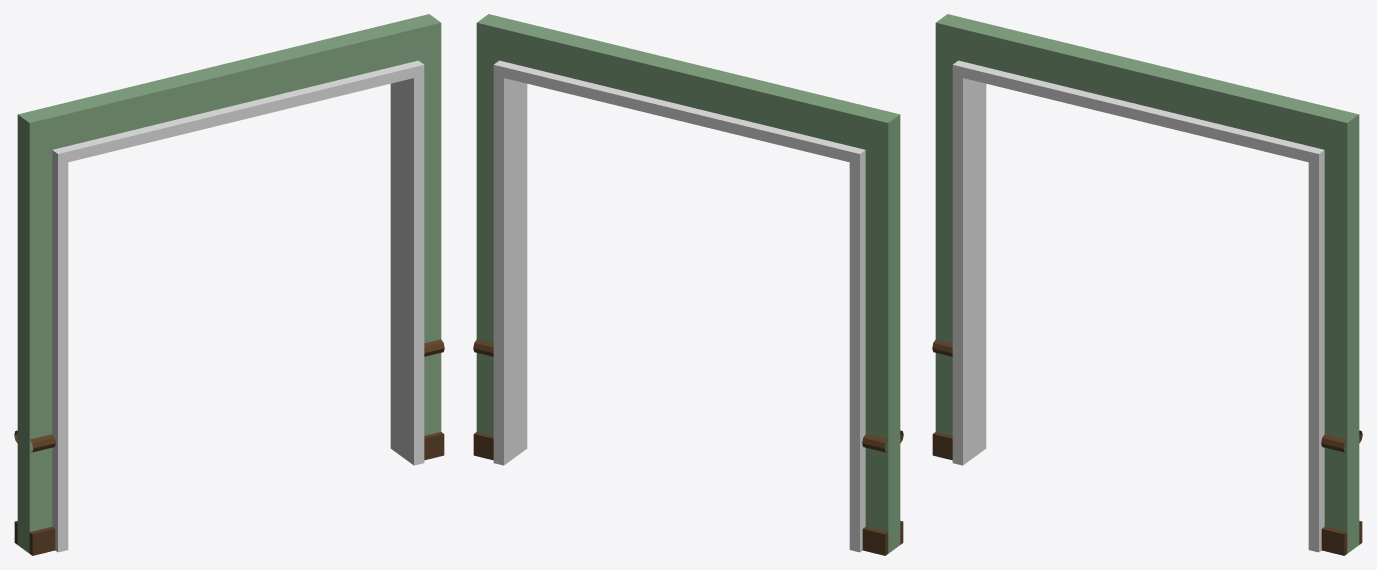
The model's file is h_wall_2_doorFrame2_4.fbx.
3 renders of one model, left to right at view 1: azimuth 30°, elevation 25°; view 2: azimuth 150°, elevation 25°; view 3: azimuth 330°, elevation 25°, orthographic.
Parts seen in each view (by area): view 1: Cube, DoorFrame; view 2: Cube, DoorFrame; view 3: Cube, DoorFrame.
Boxes of the visible parts, <box> form: Cube: <box>14,14,444,555</box>; DoorFrame: <box>52,60,424,552</box>; Cube: <box>473,14,903,555</box>; DoorFrame: <box>493,60,865,552</box>; Cube: <box>932,14,1362,555</box>; DoorFrame: <box>952,60,1324,552</box>.
Bounding box in the file's own units: 400 × 400 × 39.37.
